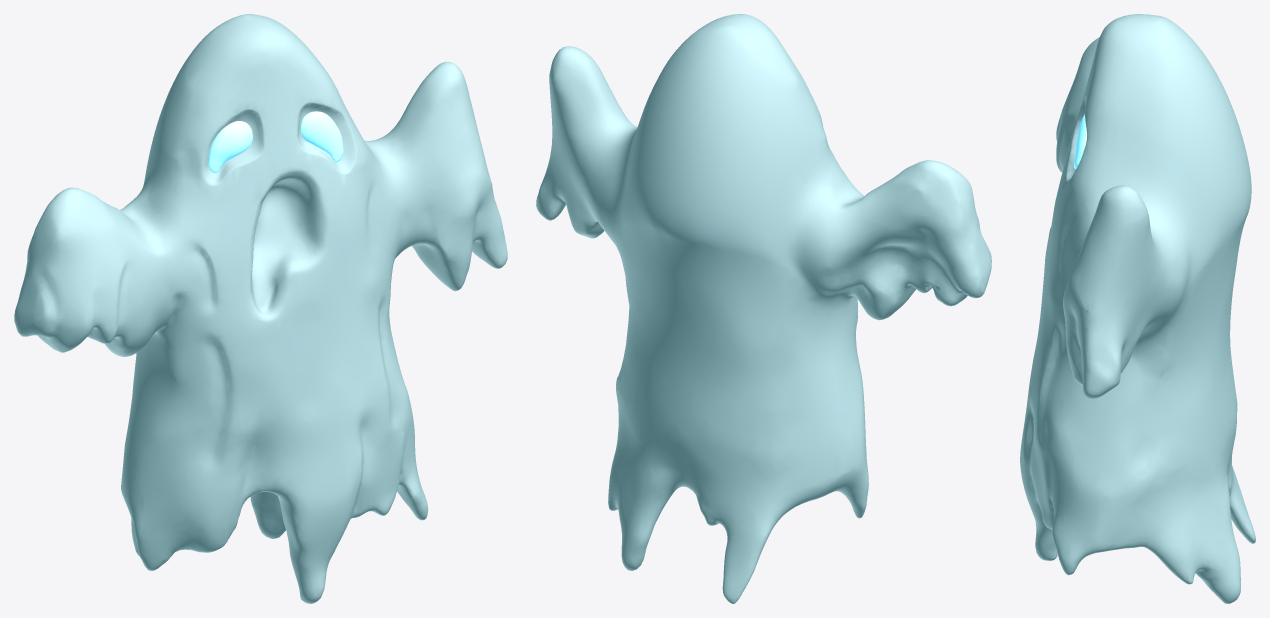
Rendered from ghost_classic.glb.
3 renders of one model, left to right at view 1: azimuth 30°, elevation 25°; view 2: azimuth 150°, elevation 25°; view 3: azimuth 270°, elevation 25°, orthographic. The views are drawn at different scales.
Visible parts, largest first — view 1: duch; view 2: duch; view 3: duch.
Part boxes in pixels (x1,y1,x2,y2): duch: (14, 14, 507, 603); duch: (536, 14, 991, 603); duch: (1020, 14, 1255, 603).
Size of the model in its own units: 3.88 by 4.39 by 1.7.
